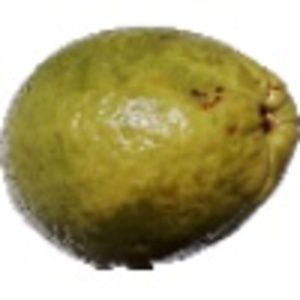goiaba: (1, 21, 299, 270)
